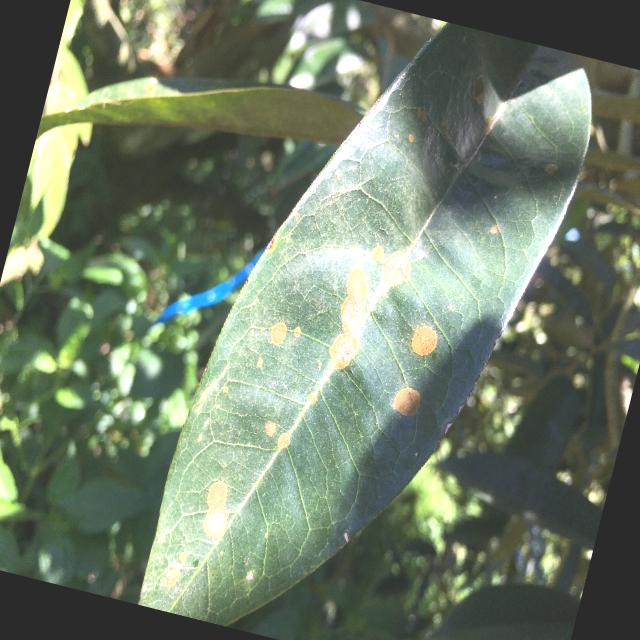Algal Leaf Spot: (128, 0, 622, 639)
